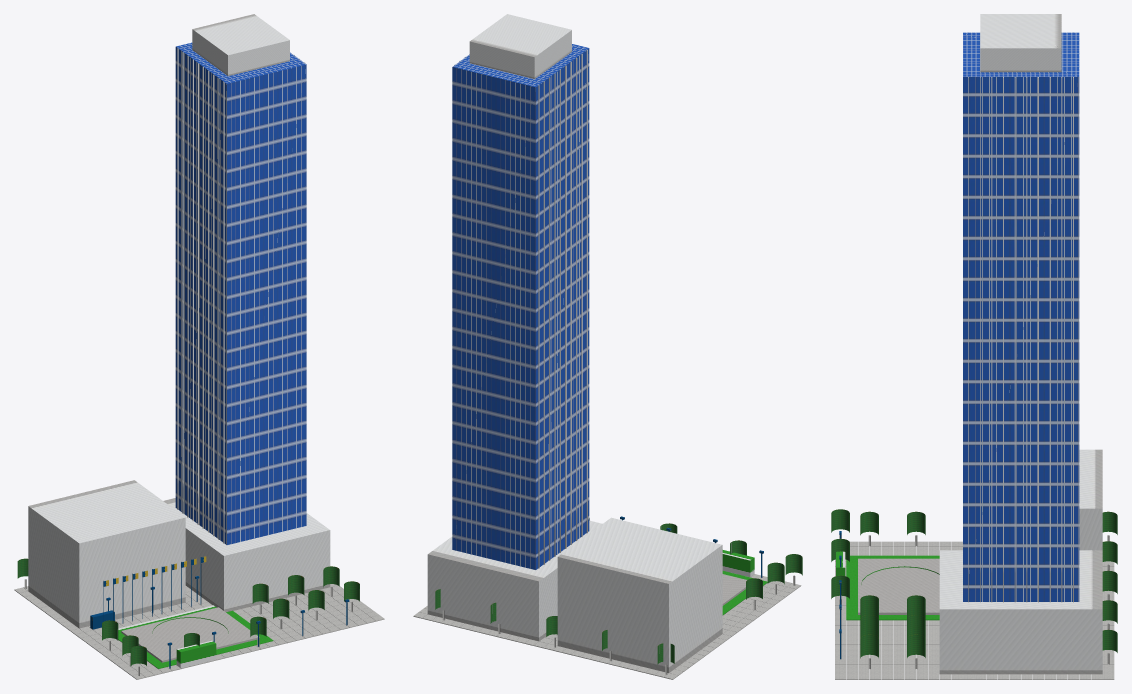
3 renders of one model, left to right at view 1: azimuth 30°, elevation 25°; view 2: azimuth 150°, elevation 25°; view 3: azimuth 270°, elevation 25°, orthographic. The views are drawn at different scales.
Visible parts, largest first — view 1: 28185_B21_Incheon_Global_Campus; view 2: 28185_B21_Incheon_Global_Campus; view 3: 28185_B21_Incheon_Global_Campus.
Boxes of the visible parts, x1,y1,x2,y2 form: 28185_B21_Incheon_Global_Campus: (14, 14, 384, 679); 28185_B21_Incheon_Global_Campus: (413, 14, 802, 679); 28185_B21_Incheon_Global_Campus: (831, 14, 1117, 679).
Size of the model in its own units: 56.55 by 116 by 49.2.
Materials: 1 (1 with a texture image).
